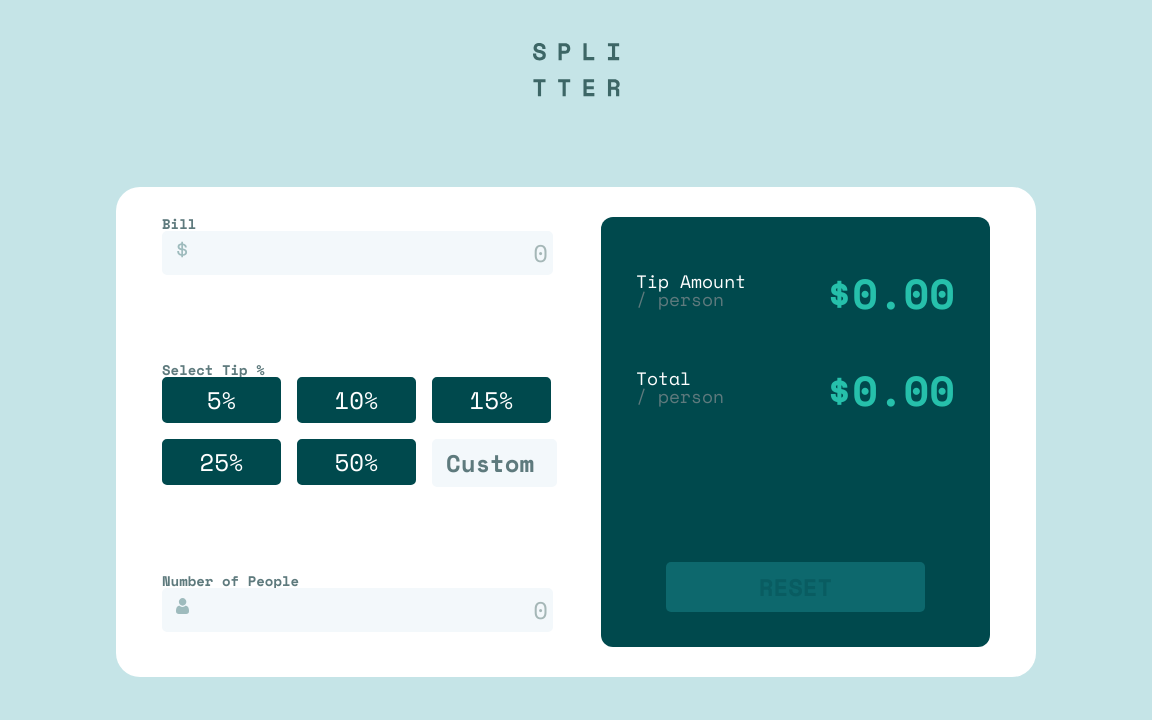
Scenario: expect total value to be $55.00 and tip value to be $5.00 when bill = 100, tip = 10 and people = 2
Type "100" into the number field with test id "inputBill".
click(358, 253); type("100")  # box top-left (162, 231), bottom-right (553, 275)
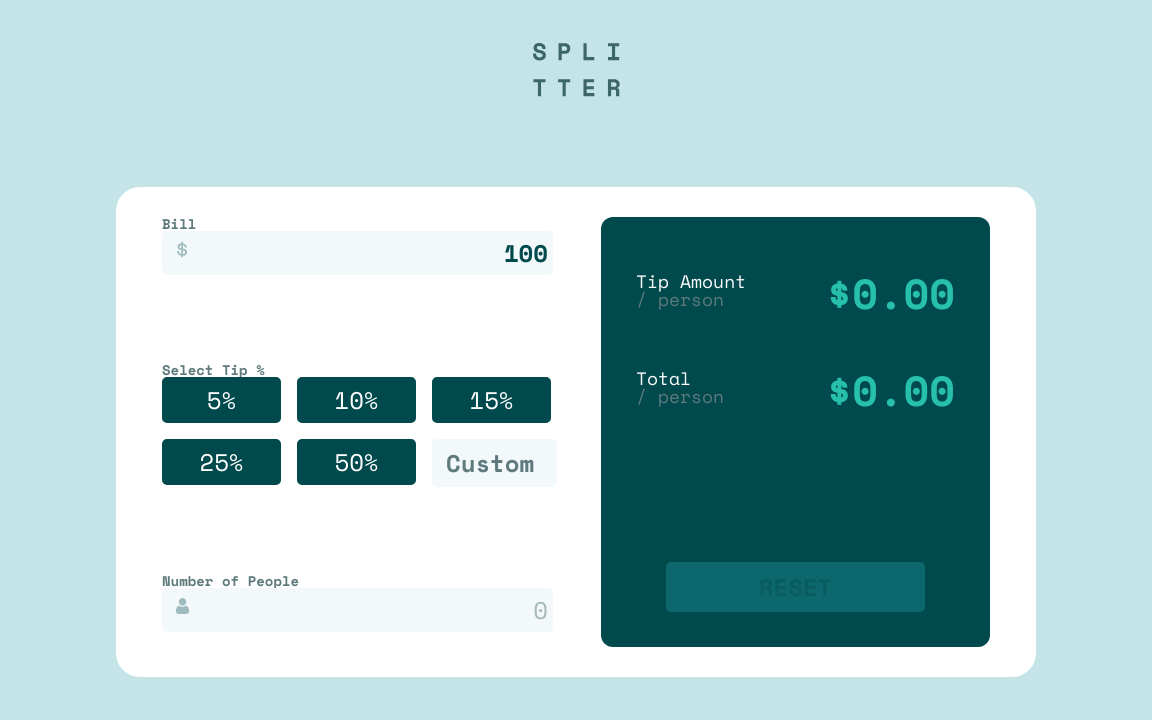
Type "2" into the number field with test id "inputPeople".
click(358, 610); type("2")  # box top-left (162, 588), bottom-right (553, 632)
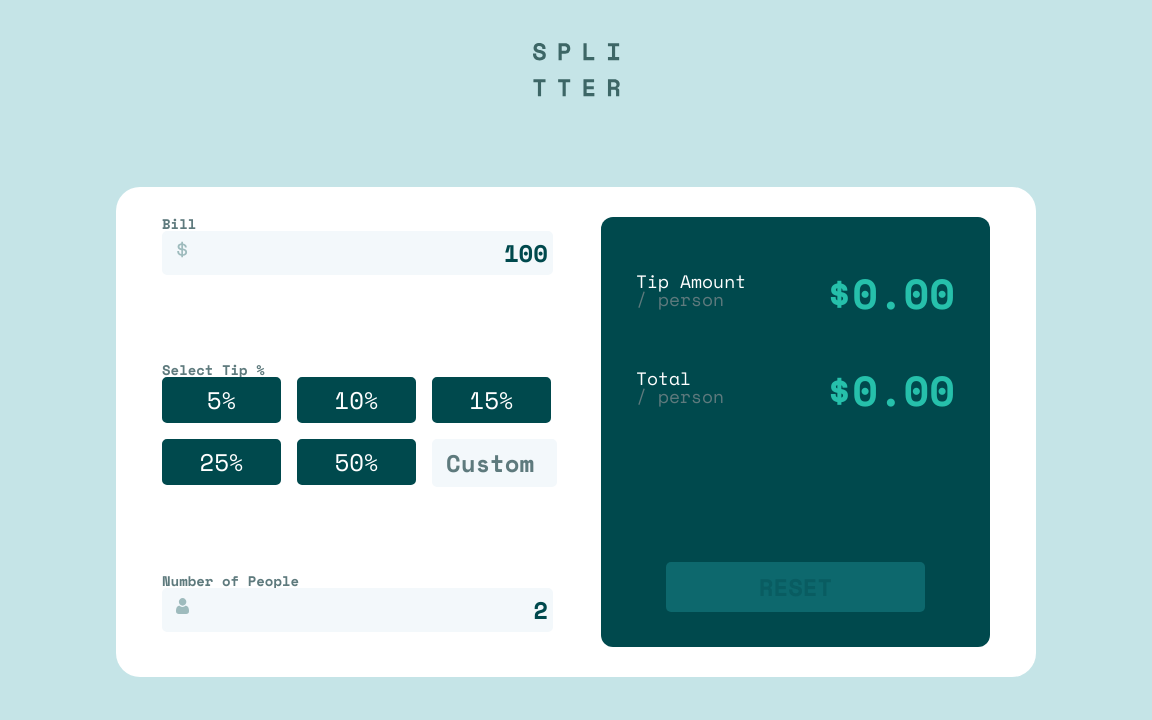
Click the button "10%".
click(356, 400)  # box top-left (297, 376), bottom-right (416, 422)
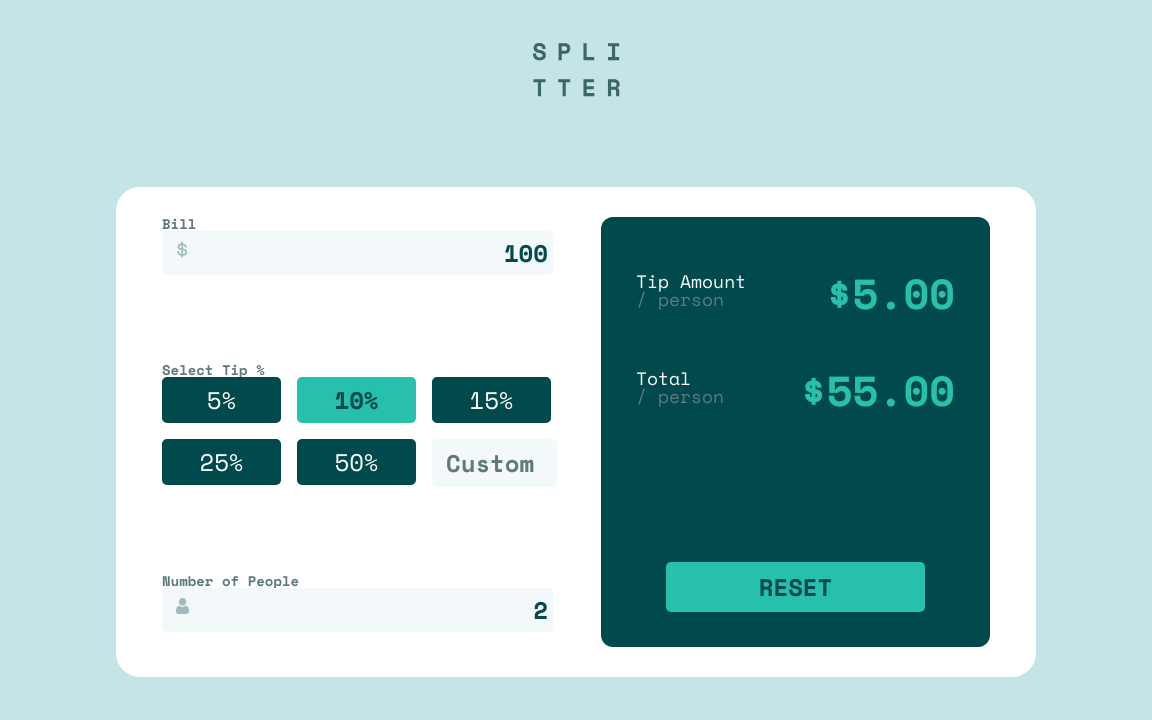
Check: the text with test id "totalText" reads "$55.00", box top-left (801, 359), bottom-right (955, 421)
Check: the text with test id "tipText" reads "$5.00", box top-left (826, 262), bottom-right (955, 324)
